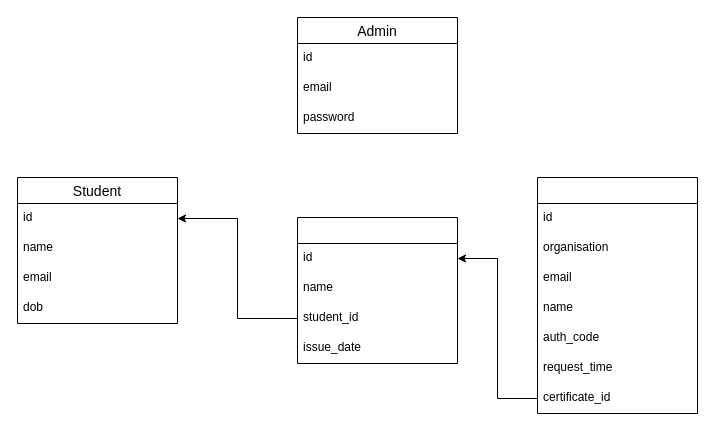
Some shapes in this 715 by 434 pixel diagram are drawn without their labels. Here are the shapes that lost their labels. From the top down, the box of each, then its label:
(296, 216, 458, 364): Certificate
(536, 176, 698, 414): Visitor
